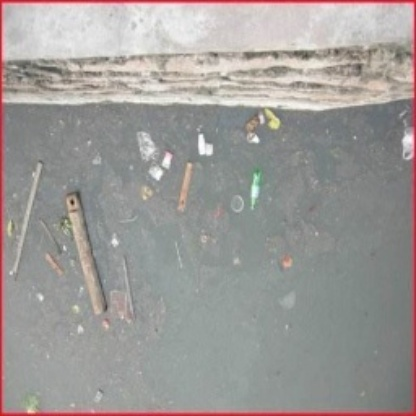bottle: (248, 168, 263, 215)
branch: (64, 191, 118, 319), (12, 161, 45, 276)
